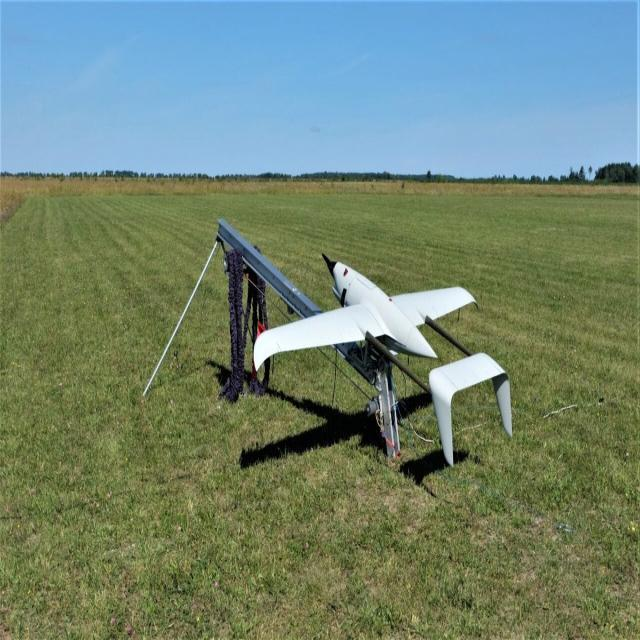iha: (227, 249, 531, 458)
